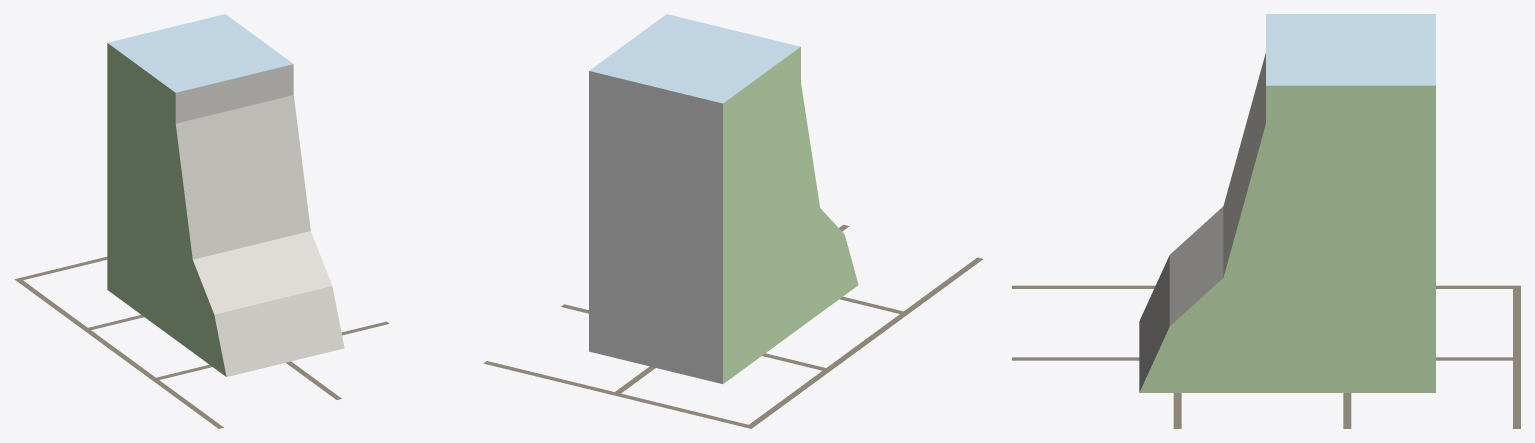
File: Wall_Straight_Basic_1x2_Base.glb
3 renders of one model, left to right at view 1: azimuth 30°, elevation 25°; view 2: azimuth 150°, elevation 25°; view 3: azimuth 270°, elevation 25°, orthographic. The views are drawn at different scales.
Visible parts, largest first — view 1: Wall_Straight_Basic_1x2_Base, Floor; view 2: Wall_Straight_Basic_1x2_Base, Floor; view 3: Wall_Straight_Basic_1x2_Base, Floor.
Boxes of the visible parts, box(x1,y1,x2,y2) form: Wall_Straight_Basic_1x2_Base: box(107, 14, 344, 376); Floor: box(14, 256, 389, 428); Wall_Straight_Basic_1x2_Base: box(589, 14, 858, 383); Floor: box(483, 224, 982, 428); Wall_Straight_Basic_1x2_Base: box(1139, 14, 1435, 392); Floor: box(1012, 285, 1520, 428).
Bounding box in the file's own units: 200 × 200 × 300.
Materials: 5 (1 with a texture image).
